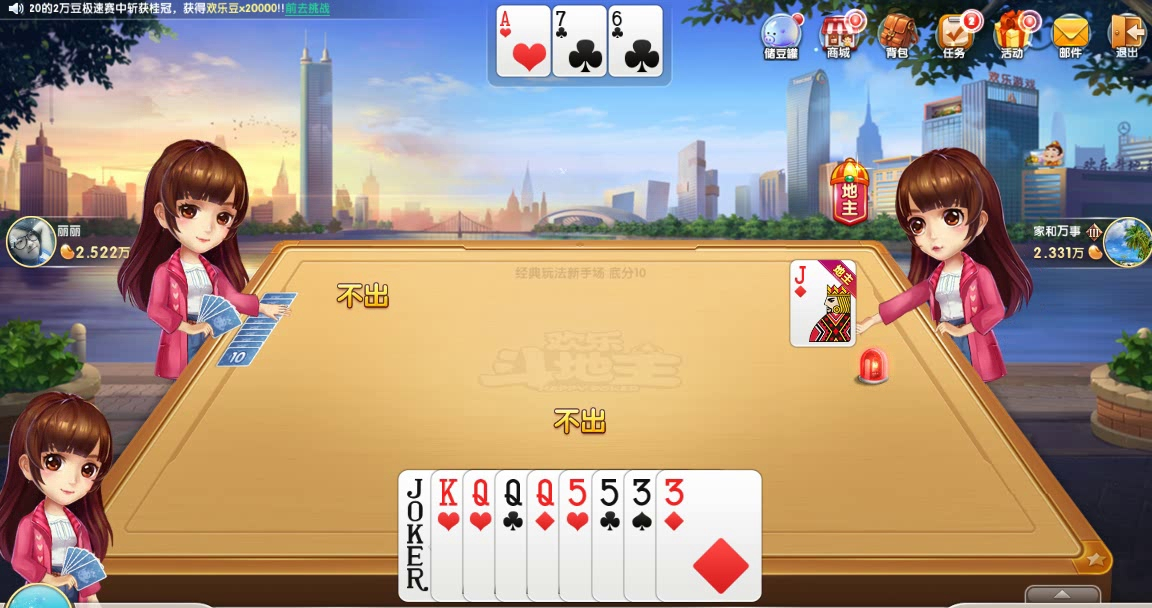11~1: (791, 260, 858, 348)
12~1: (527, 466, 633, 603)
12~2: (495, 466, 601, 603)
12~3: (463, 466, 569, 603)
13~3: (429, 467, 535, 604)
14~3: (495, 4, 550, 77)
17~3: (396, 467, 502, 604)
3~1: (655, 466, 761, 603)
3~4: (621, 466, 727, 603)
5~2: (592, 466, 698, 603)
5~3: (560, 466, 666, 603)
6~2: (608, 4, 663, 77)
7~2: (552, 4, 607, 77)
